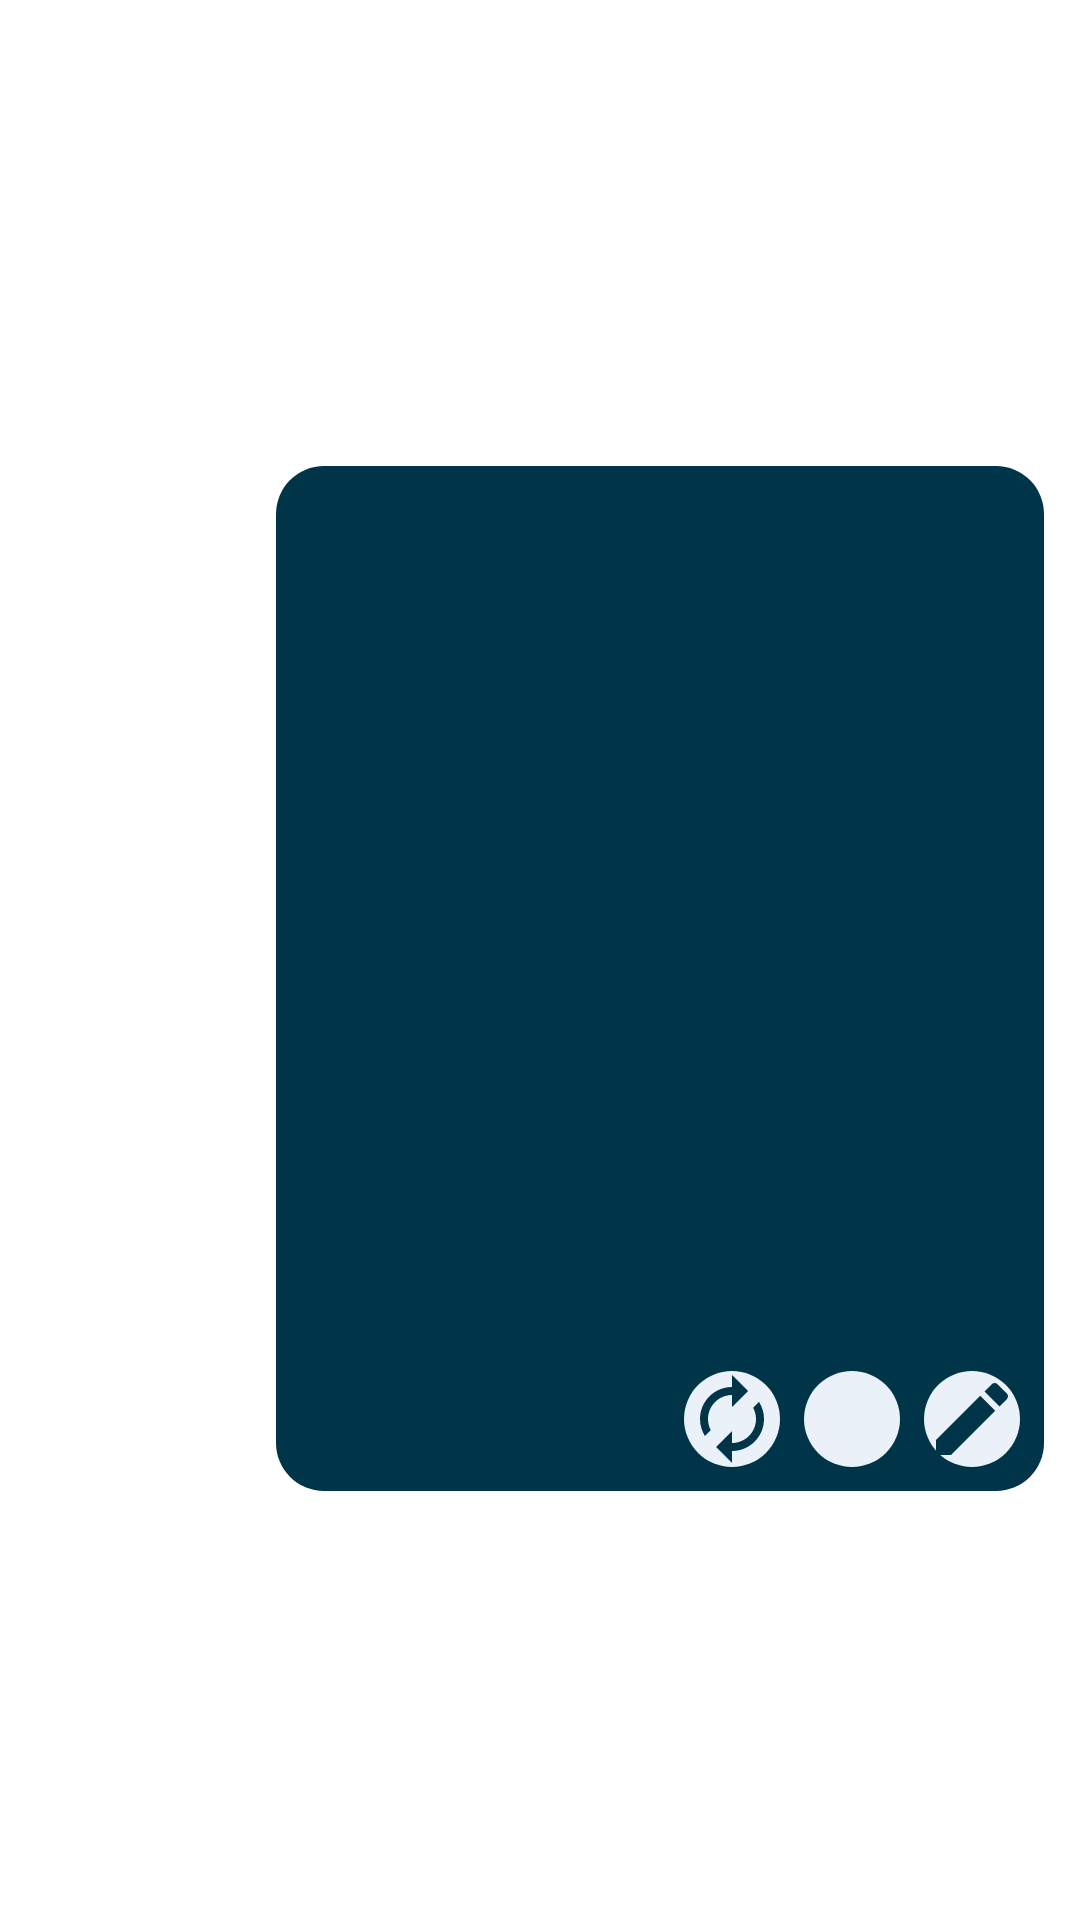

Icons on this 1080 × 1920 Android screen, each with its box as (x1, y1, x2, y2):
Edit: (924, 1371, 1020, 1467)
Retry: (684, 1371, 780, 1467)
